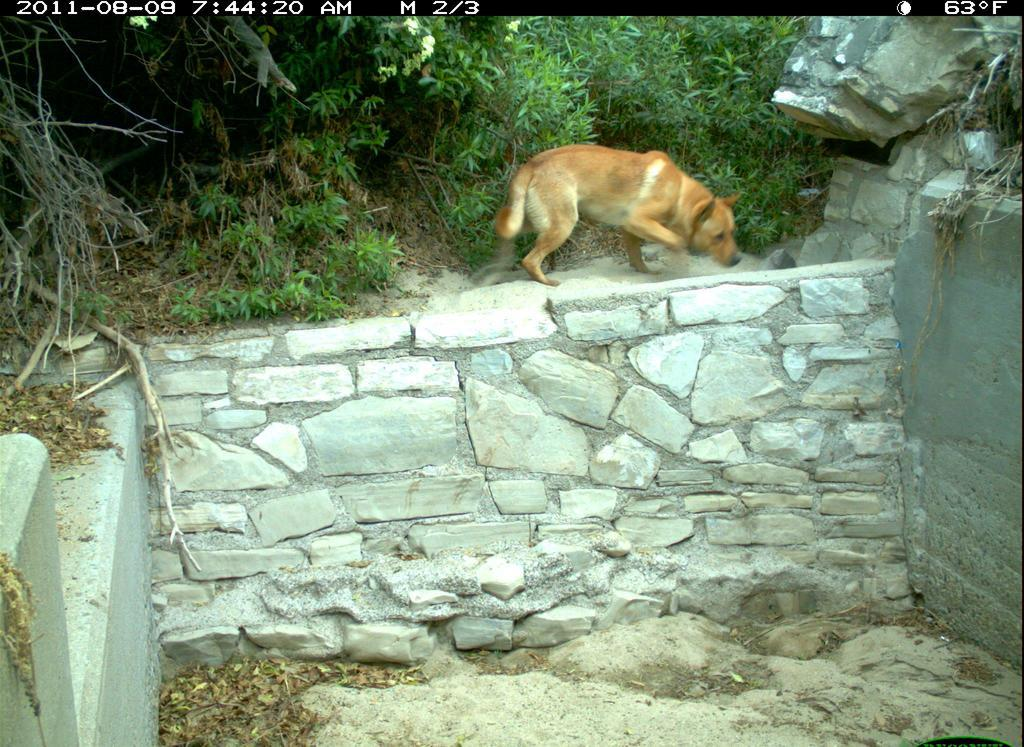dog: (486, 136, 749, 287)
